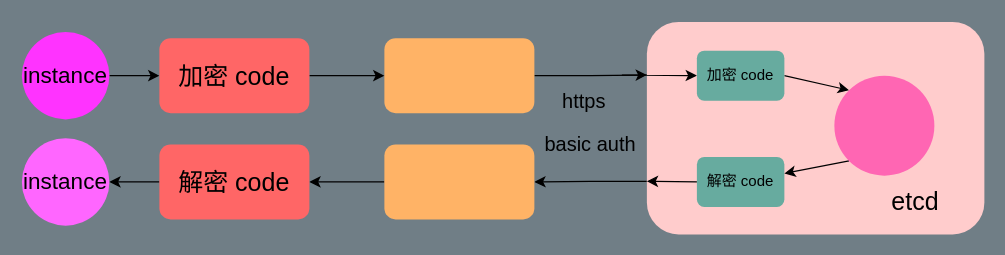
This 1005x255 diagram has some shape labels left out. Here are the shapes that lost their labels. From the top down, the centre of each, then its label:
At [459,75]: "put code".
At [884,125]: "store".
At [459,181]: "get code".
